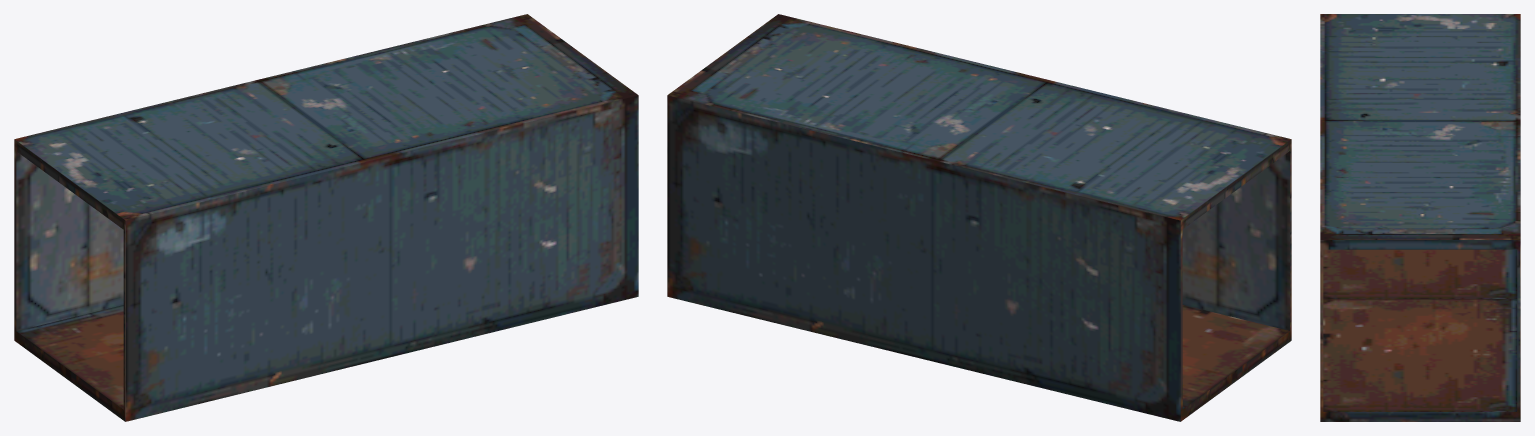
File: cargo_1_open.glb
3 views of the same model, side by side, from view 1: azimuth 30°, elevation 25°; view 2: azimuth 150°, elevation 25°; view 3: azimuth 270°, elevation 25° (orthographic). The views are drawn at different scales.
Visible parts, largest first — view 1: Cargo_1_open2; view 2: Cargo_1_open2; view 3: Cargo_1_open2.
Part boxes in pixels (<box>): Cargo_1_open2: <box>14,14,638,421</box>; Cargo_1_open2: <box>667,14,1291,421</box>; Cargo_1_open2: <box>1320,14,1520,421</box>.
Bounding box in the file's own units: 8 × 3 × 3.
Materials: 1 (1 with a texture image).
